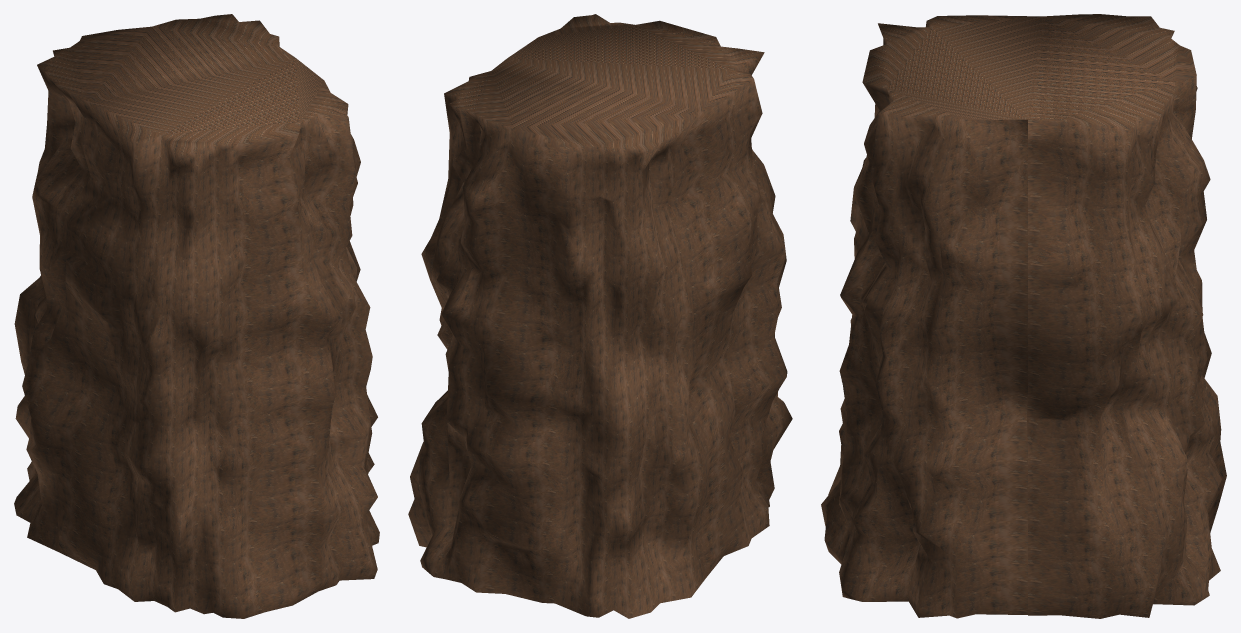
Rendered from CliffCore_LOD2.fbx.
3 views of the same model, side by side, from view 1: azimuth 30°, elevation 25°; view 2: azimuth 150°, elevation 25°; view 3: azimuth 270°, elevation 25° (orthographic). The views are drawn at different scales.
Parts seen in each view (by area): view 1: CliffCore.001; view 2: CliffCore.001; view 3: CliffCore.001.
Part boxes in pixels (bbox=[...]): CliffCore.001: bbox=[14, 14, 379, 618]; CliffCore.001: bbox=[408, 14, 792, 618]; CliffCore.001: bbox=[821, 14, 1226, 618].
Bounding box in the file's own units: 52.31 × 64.15 × 84.17.
